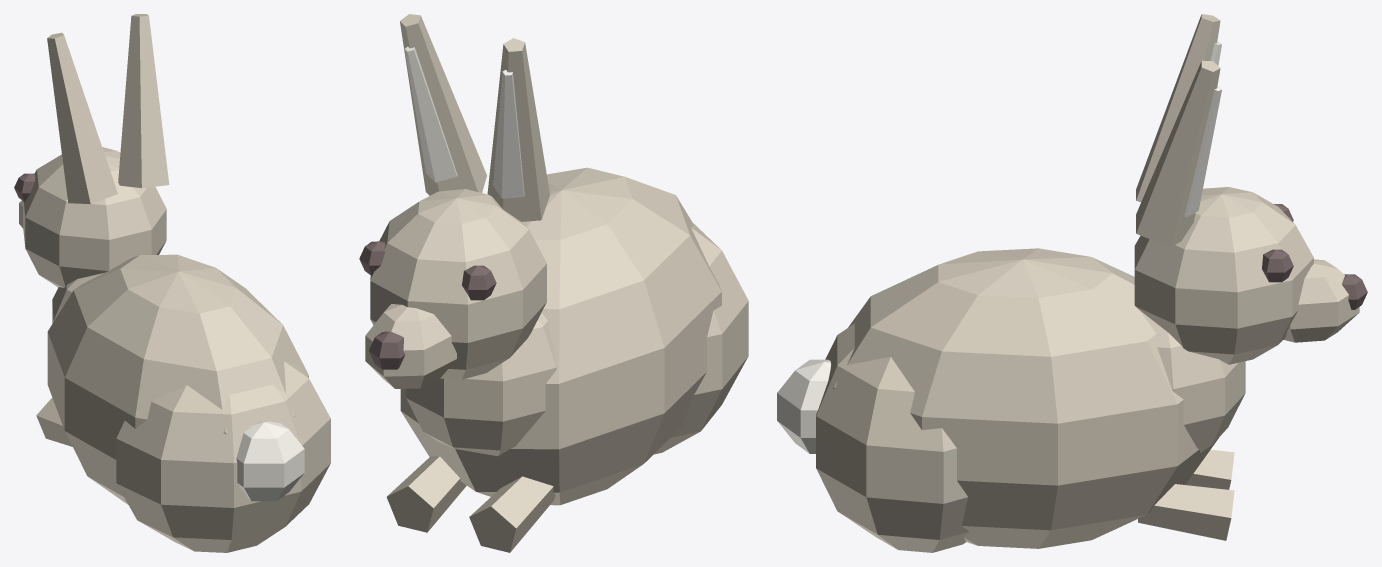
File: rabbit.glb
3 renders of one model, left to right at view 1: azimuth 30°, elevation 25°; view 2: azimuth 150°, elevation 25°; view 3: azimuth 270°, elevation 25°, orthographic. The views are drawn at different scales.
Visible parts, largest first — view 1: rabbit; view 2: rabbit; view 3: rabbit.
Boxes of the visible parts, <box> form: rabbit: <box>14,14,330,552</box>; rabbit: <box>359,14,748,552</box>; rabbit: <box>777,14,1367,552</box>.
Size of the model in its own units: 0.2938 by 0.612 by 0.6543.
